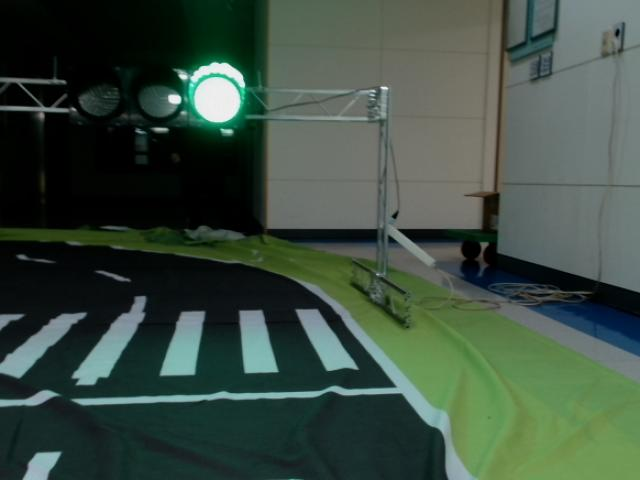crosswalk: (0, 308, 358, 375)
traffic light-green-: (68, 61, 250, 128)
